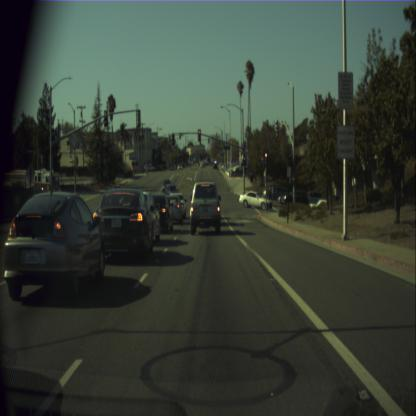Red: (262, 149, 268, 168), (242, 154, 246, 164), (198, 128, 200, 142)
